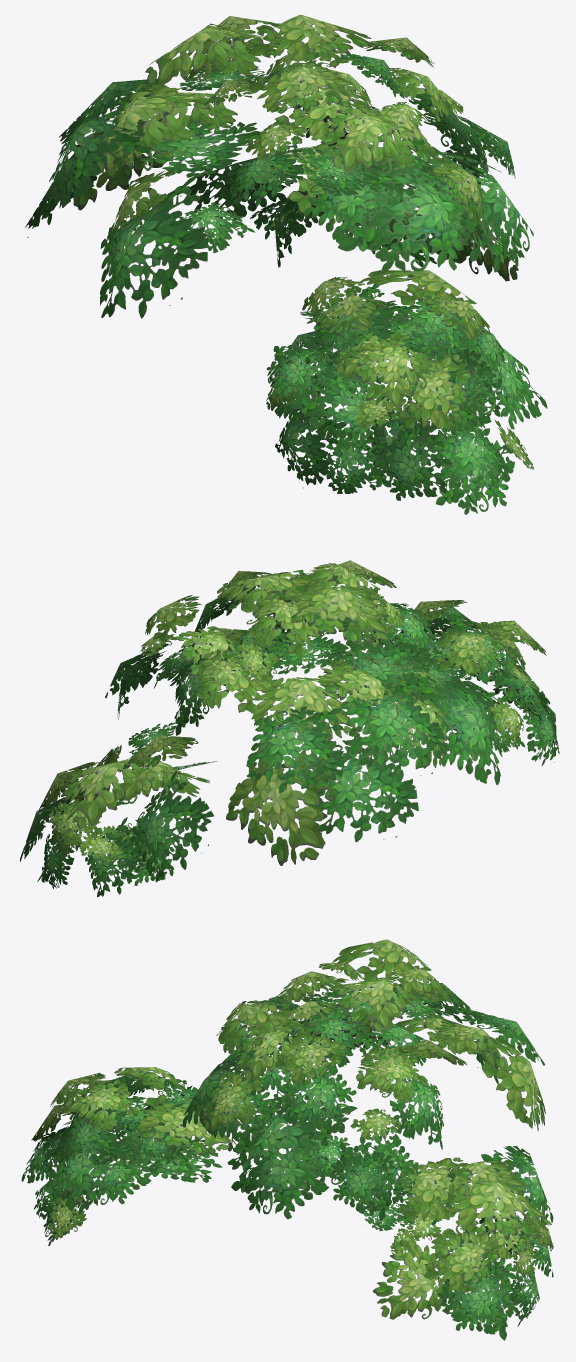
File: Yland1_yz_09 Yland1.FBX
The picture shows the model from 3 angles, top to bottom: view 1: azimuth 30°, elevation 25°; view 2: azimuth 150°, elevation 25°; view 3: azimuth 270°, elevation 25°; orthographic projection. The views are drawn at different scales.
Visible parts, largest first — view 1: Yland1_yz_09 Yland1; view 2: Yland1_yz_09 Yland1; view 3: Yland1_yz_09 Yland1.
Part boxes in pixels (x1,y1,x2,y2): Yland1_yz_09 Yland1: (25, 14, 547, 514); Yland1_yz_09 Yland1: (20, 560, 559, 897); Yland1_yz_09 Yland1: (21, 939, 553, 1340).
Bounding box in the file's own units: 4.88 × 3.64 × 6.16.
